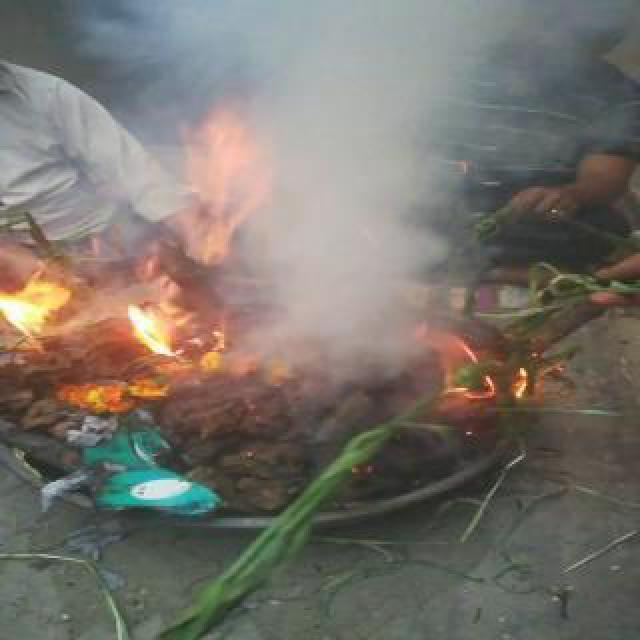Fire: (180, 110, 268, 270), (120, 258, 184, 366), (2, 270, 76, 354), (62, 366, 180, 418), (182, 338, 244, 386)
Smoke: (235, 0, 536, 415)
